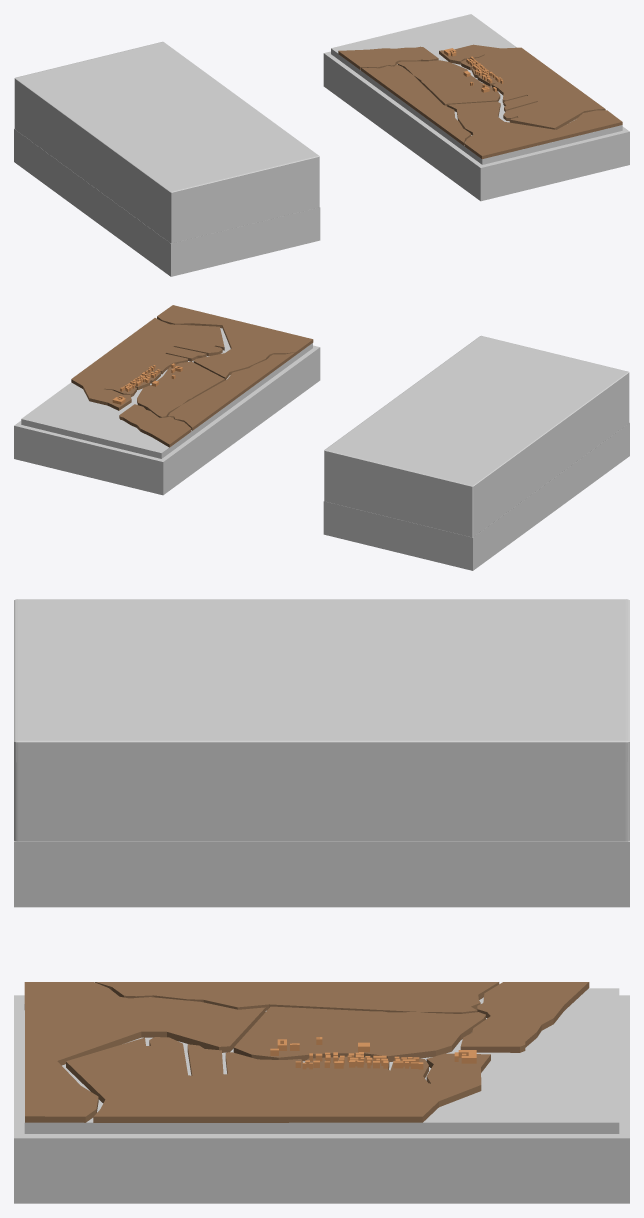
File: map.fbx
3 views of the same model, one above another, from view 1: azimuth 30°, elevation 25°; view 2: azimuth 150°, elevation 25°; view 3: azimuth 270°, elevation 25° (orthographic). The views are drawn at different scales.
Visible parts, largest first — view 1: kaca.001, meja2, meja1, pulau.036, basebiru2, pulau.032, pulau.033, pulau.035, pulau.034; view 2: kaca.001, meja2, meja1, pulau.036, basebiru2, pulau.032, pulau.033, pulau.035, pulau.034; view 3: kaca.001, meja2, meja1, pulau.036, basebiru2, pulau.032, pulau.035, pulau.033, pulau.034, block.
Part boxes in pixels (x1=…): kaca.001: x1=14, y1=41, x2=319, y2=243; meja2: x1=323, y1=51, x2=629, y2=201; meja1: x1=14, y1=128, x2=320, y2=276; pulau.036: x1=439, y1=44, x2=605, y2=129; basebiru2: x1=331, y1=14, x2=622, y2=164; pulau.032: x1=447, y1=101, x2=622, y2=159; pulau.033: x1=361, y1=64, x2=471, y2=145; pulau.035: x1=398, y1=60, x2=500, y2=106; pulau.034: x1=338, y1=46, x2=438, y2=69; kaca.001: x1=324, y1=335, x2=629, y2=537; meja2: x1=14, y1=345, x2=320, y2=495; meja1: x1=323, y1=422, x2=629, y2=570; pulau.036: x1=71, y1=318, x2=224, y2=410; basebiru2: x1=21, y1=328, x2=312, y2=458; pulau.032: x1=157, y1=305, x2=313, y2=380; pulau.033: x1=168, y1=352, x2=295, y2=430; pulau.035: x1=137, y1=361, x2=224, y2=417; pulau.034: x1=119, y1=404, x2=191, y2=447; kaca.001: x1=14, y1=599, x2=629, y2=841; meja2: x1=14, y1=995, x2=629, y2=1203; meja1: x1=14, y1=841, x2=629, y2=907; pulau.036: x1=66, y1=1037, x2=490, y2=1122; basebiru2: x1=24, y1=988, x2=619, y2=1133; pulau.032: x1=24, y1=982, x2=265, y2=1122; pulau.035: x1=233, y1=1006, x2=485, y2=1061; pulau.033: x1=95, y1=982, x2=499, y2=1013; pulau.034: x1=460, y1=982, x2=589, y2=1052; block: x1=295, y1=1052, x2=423, y2=1069.
Bounding box in the file's own units: 1539 × 291 × 912.
